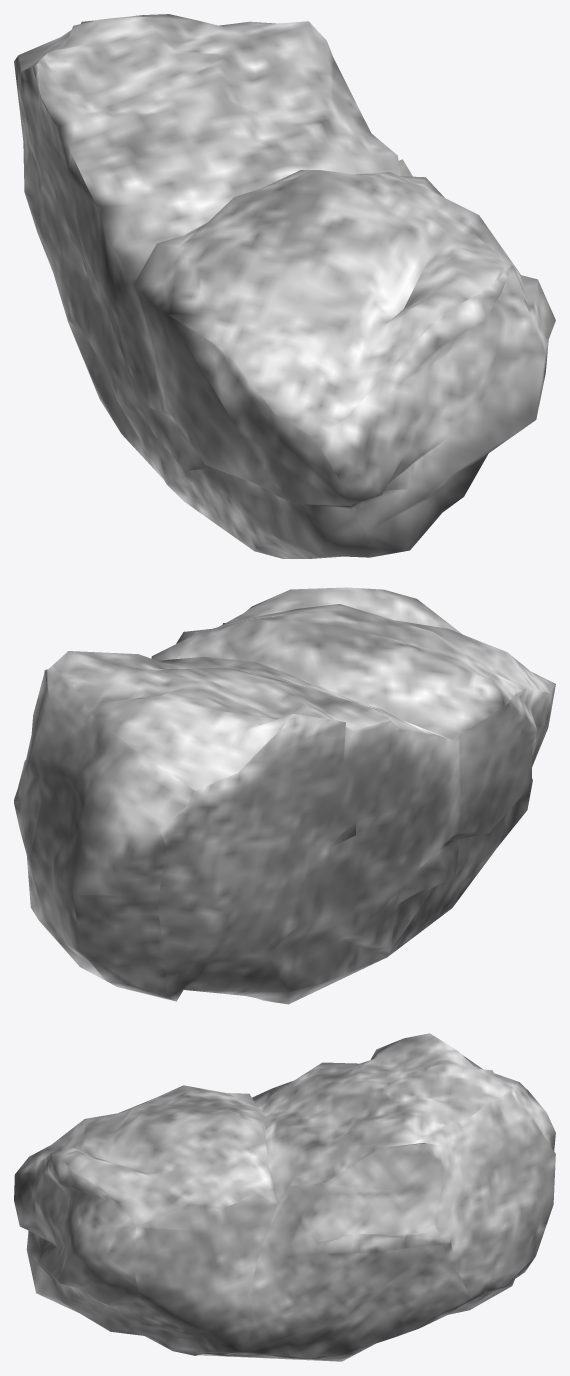
Rendered from boulder-fieldstone-round-lod2.glb.
The picture shows the model from 3 angles, top to bottom: view 1: azimuth 30°, elevation 25°; view 2: azimuth 150°, elevation 25°; view 3: azimuth 270°, elevation 25°; orthographic projection. The views are drawn at different scales.
Visible parts, largest first — view 1: namaqualand_boulder_06; view 2: namaqualand_boulder_06; view 3: namaqualand_boulder_06.
Part boxes in pixels (bbox=[...]): namaqualand_boulder_06: bbox=[14, 14, 555, 558]; namaqualand_boulder_06: bbox=[14, 587, 555, 1004]; namaqualand_boulder_06: bbox=[14, 1033, 555, 1361].
Bounding box in the file's own units: 0.6669 × 0.6494 × 1.21.
Materials: 1 (1 with a texture image).
